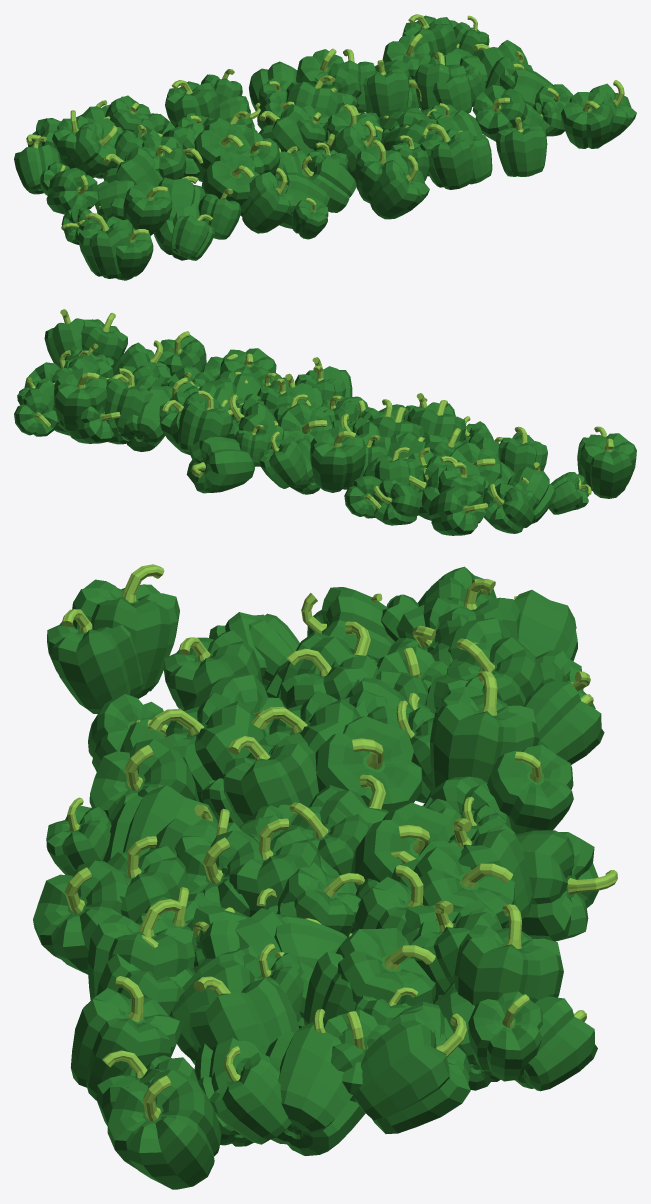
The model's file is shimla mirch.fbx.
The picture shows the model from 3 angles, top to bottom: view 1: azimuth 30°, elevation 25°; view 2: azimuth 150°, elevation 25°; view 3: azimuth 270°, elevation 25°; orthographic projection. The views are drawn at different scales.
Parts seen in each view (by area): view 1: greenPepper.041; view 2: greenPepper.041; view 3: greenPepper.041.
Part boxes in pixels (x1=…): greenPepper.041: x1=14, y1=14, x2=636, y2=280; greenPepper.041: x1=14, y1=309, x2=636, y2=535; greenPepper.041: x1=33, y1=564, x2=617, y2=1189.
Bounding box in the file's own units: 1360 × 244 × 618.
